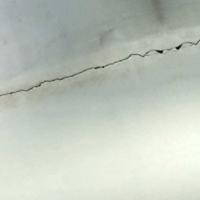crack: (1, 28, 199, 113)
